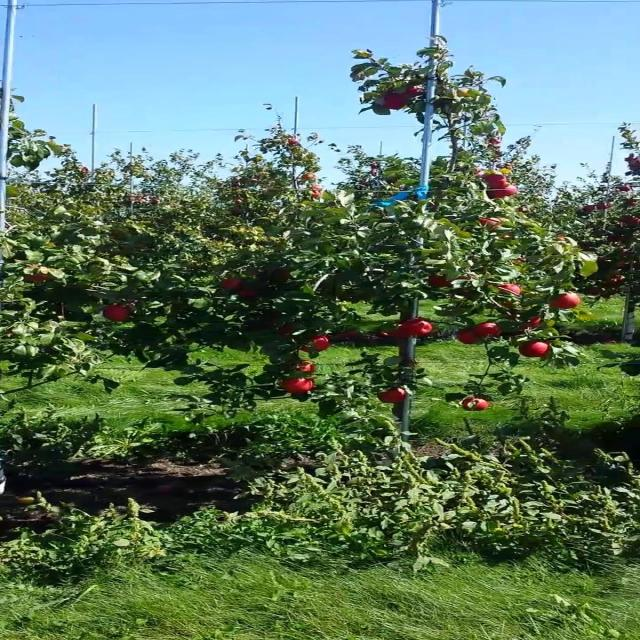apple: (442, 1, 640, 178), (398, 318, 433, 336), (280, 378, 316, 394), (518, 340, 549, 358), (549, 292, 580, 309), (300, 335, 331, 352), (22, 265, 53, 282), (24, 265, 53, 282), (382, 91, 407, 110), (102, 305, 131, 321), (378, 388, 407, 404), (460, 396, 489, 411), (473, 322, 502, 336), (487, 185, 518, 198), (482, 174, 509, 188), (382, 325, 411, 338), (456, 330, 480, 344), (427, 275, 451, 288), (271, 268, 291, 283), (293, 360, 316, 373), (220, 278, 244, 290), (498, 284, 522, 295), (478, 218, 502, 229), (402, 85, 422, 98), (238, 286, 258, 299), (276, 323, 294, 336), (522, 316, 540, 329), (472, 168, 486, 178)
